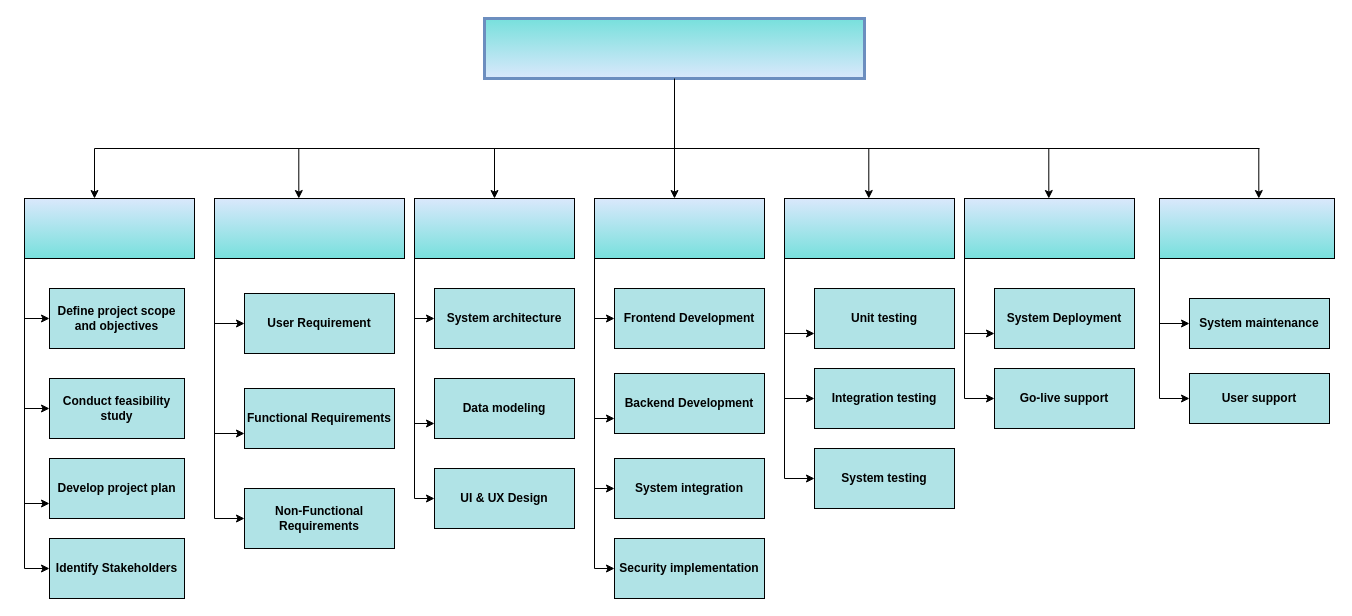
Image size: 1352x616. Some labels were removed from this diagram. Here are the shapes that lost their labels. From the top down, the centre of each, then its label:
the point at 674,48: COLLEGE MANAGEMENT SYSTEM
the point at 109,228: PROJECT INITATION
the point at 309,228: REQUIREMENT GATHERING
the point at 494,228: SYSTEM DESIGN
the point at 679,228: DEVELOPMENT
the point at 869,228: TESTING
the point at 1049,228: DEPLOYMENT
the point at 1246,228: MAINTENANCE & SUPPORT
